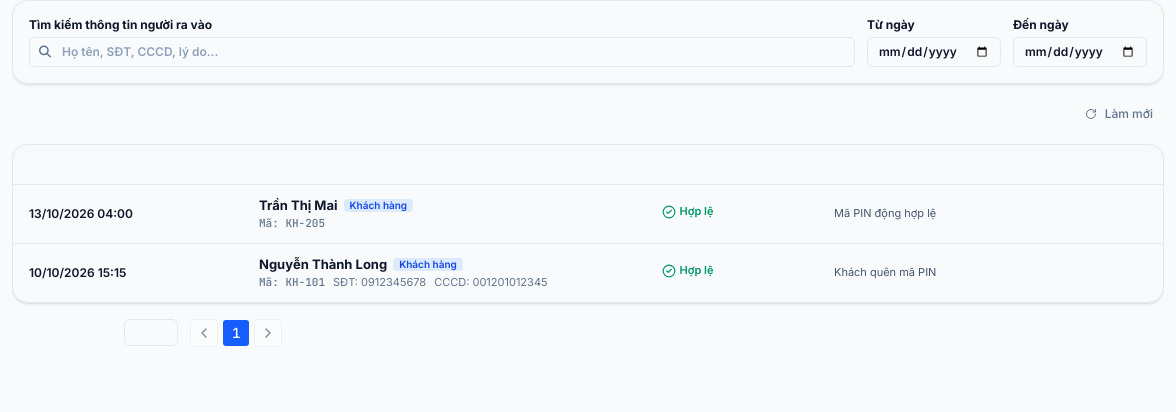
GateLogPanel: Manager xem nhật ký ra vào cổng của cơ sở (US-18) › khoảng ngày ngược → báo lỗi và không hiện lượt nào
Check: the text "Nguyễn Thành Long" is shown, box [259,256,387,273]
Type "2026-10-12" into the date field labelled "Từ ngày".
click(934, 52); type("2026-10-12")  # box [867,37,1001,67]
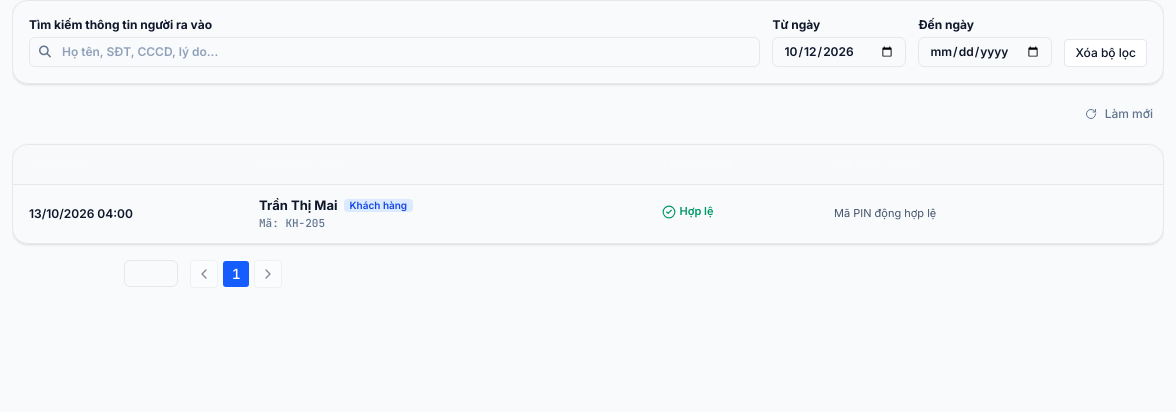
Type "2026-10-10" into the date field labelled "Đến ngày".
click(986, 52); type("2026-10-10")  # box [918,37,1052,67]
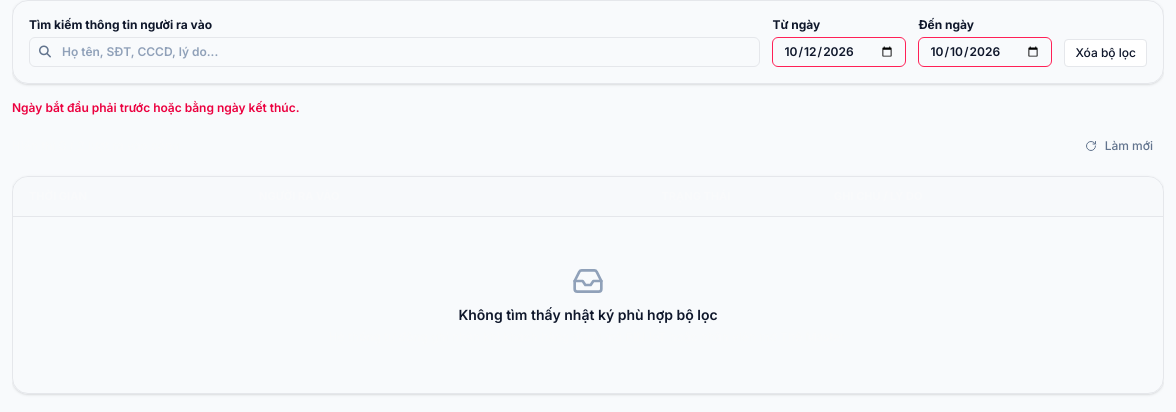
Check: the message shows "Ngày bắt đầu phải trước", box [12,100,300,115]
Check: the text "Không tìm thấy nhật ký phù hợp bộ lọc" is shown, box [458,306,718,323]
